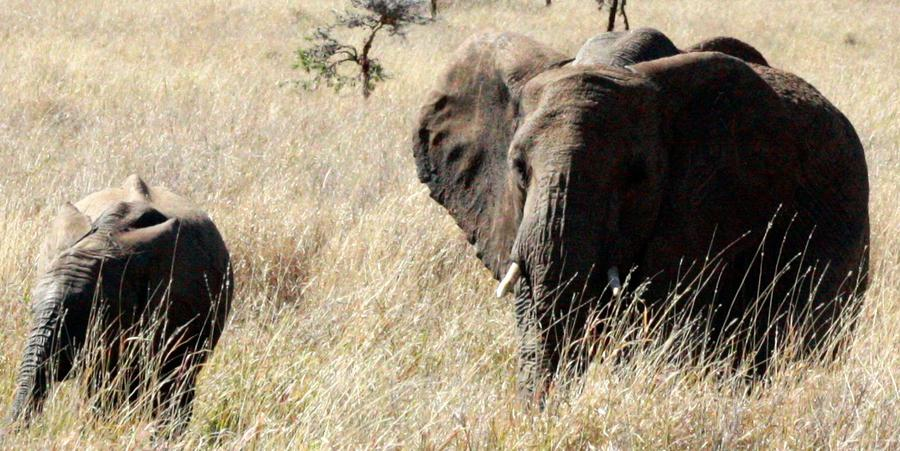elephant: (454, 20, 738, 359), (17, 223, 177, 378)
